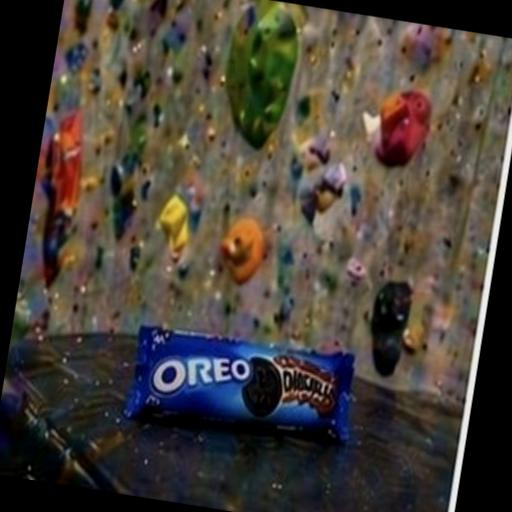oreo: (74, 248, 429, 499)
